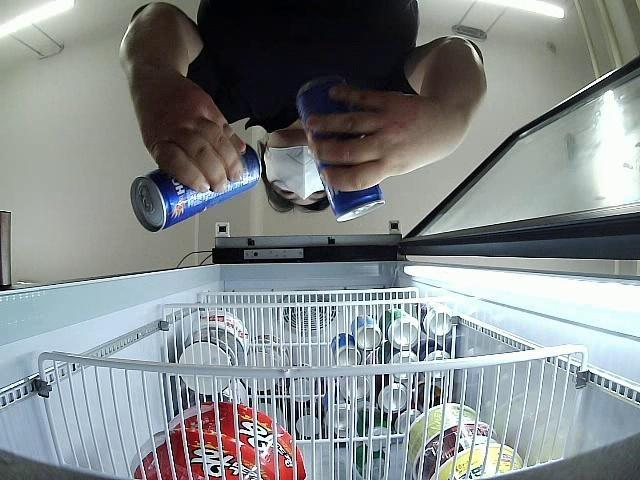16_hot6: (296, 81, 386, 223), (133, 144, 260, 230)
